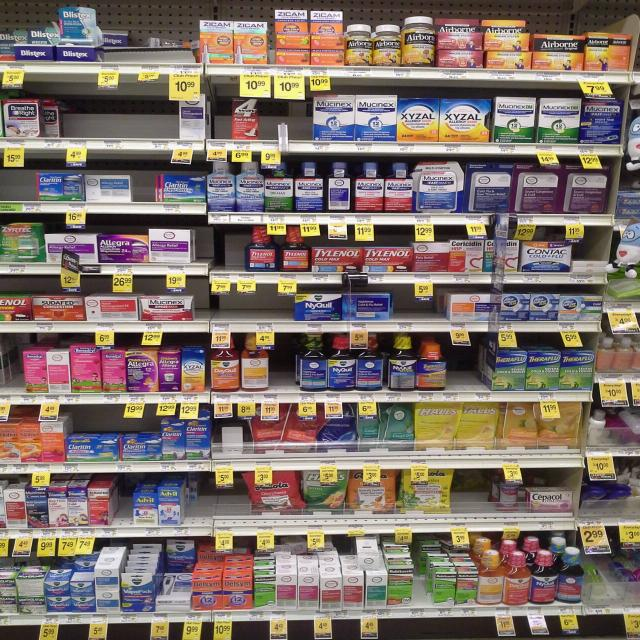void: (69, 92, 115, 158), (125, 90, 167, 162), (102, 7, 142, 80), (189, 473, 243, 527), (266, 96, 310, 158), (452, 336, 489, 406), (396, 286, 446, 332), (198, 285, 240, 335), (250, 284, 287, 335), (212, 226, 248, 276), (460, 471, 485, 530)
